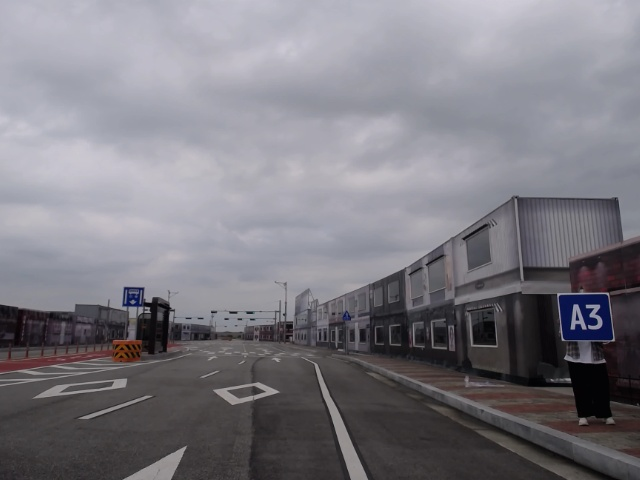delivery_a3: (558, 293, 614, 341)
